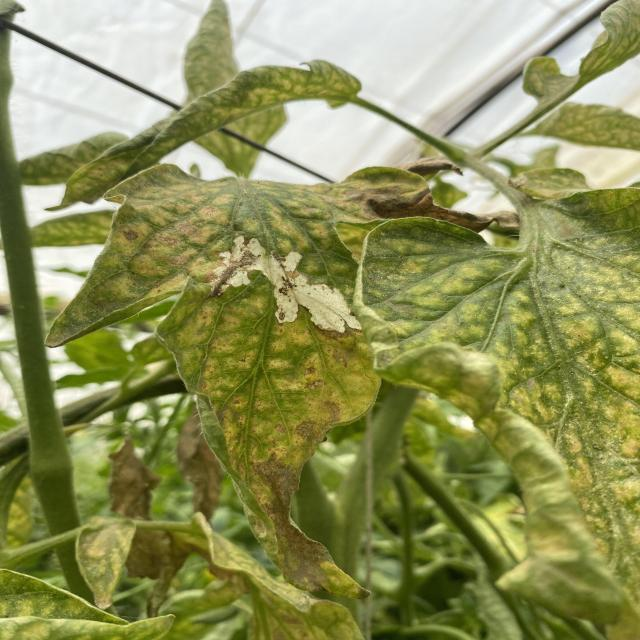Tuta absoluta: (202, 224, 379, 353)
